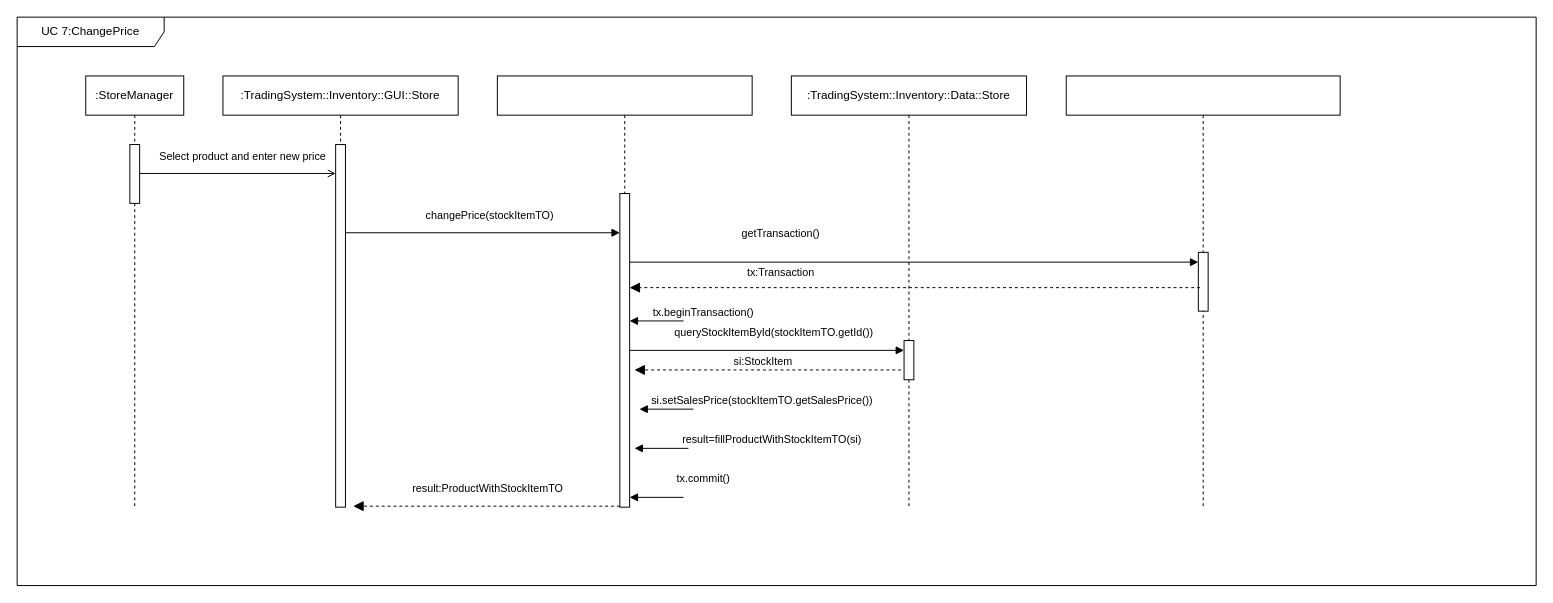
Image size: 1553x603. Some labels were removed from this diagram. Here are the shapes that lost their labels. From the top down, the box of each, then its label:
(496, 75, 752, 507): :TradingSystem::Inventory::Application::Store
(1065, 75, 1340, 507): :TradingSystem::Inventory::Data::Persistence
